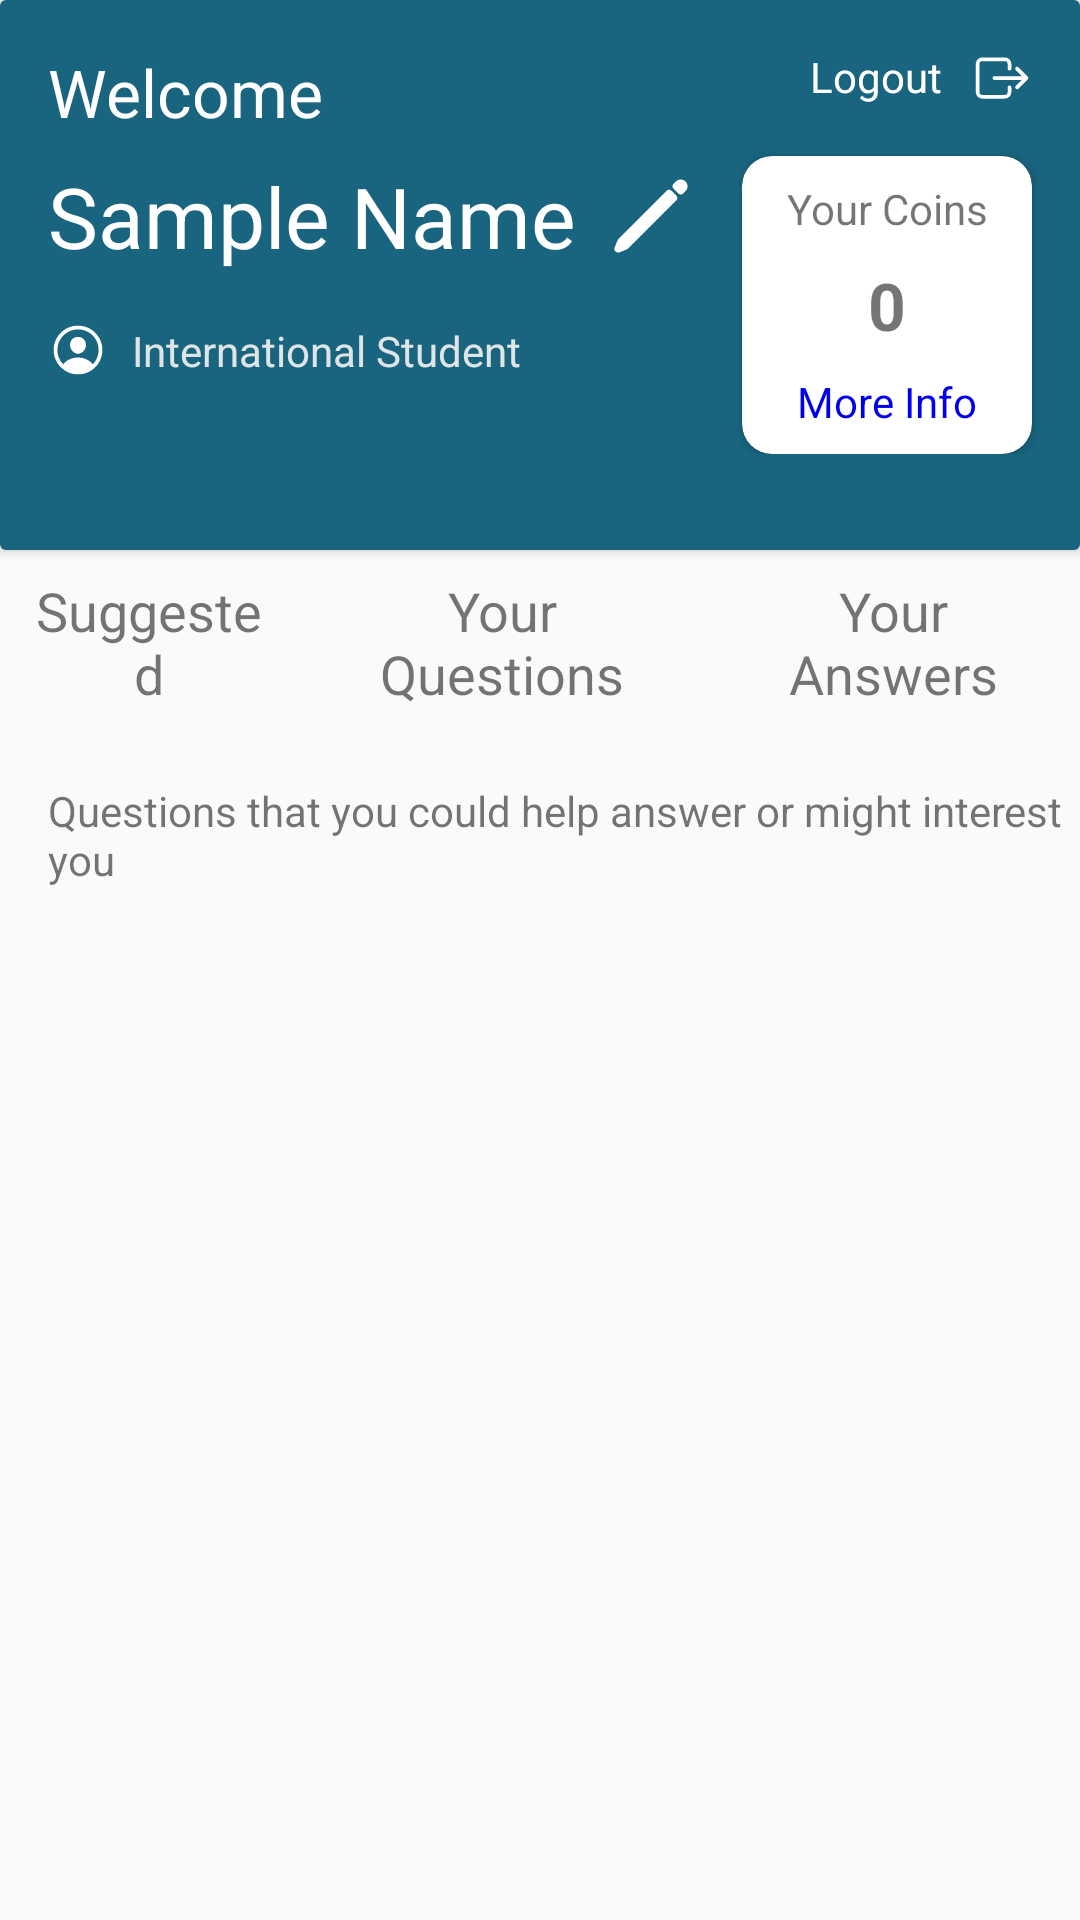

Locate icon controls on the screen. Image size 1080*1920, boxes as region(x1, y1, x2, y2).
person circle: region(53, 325, 103, 375)
